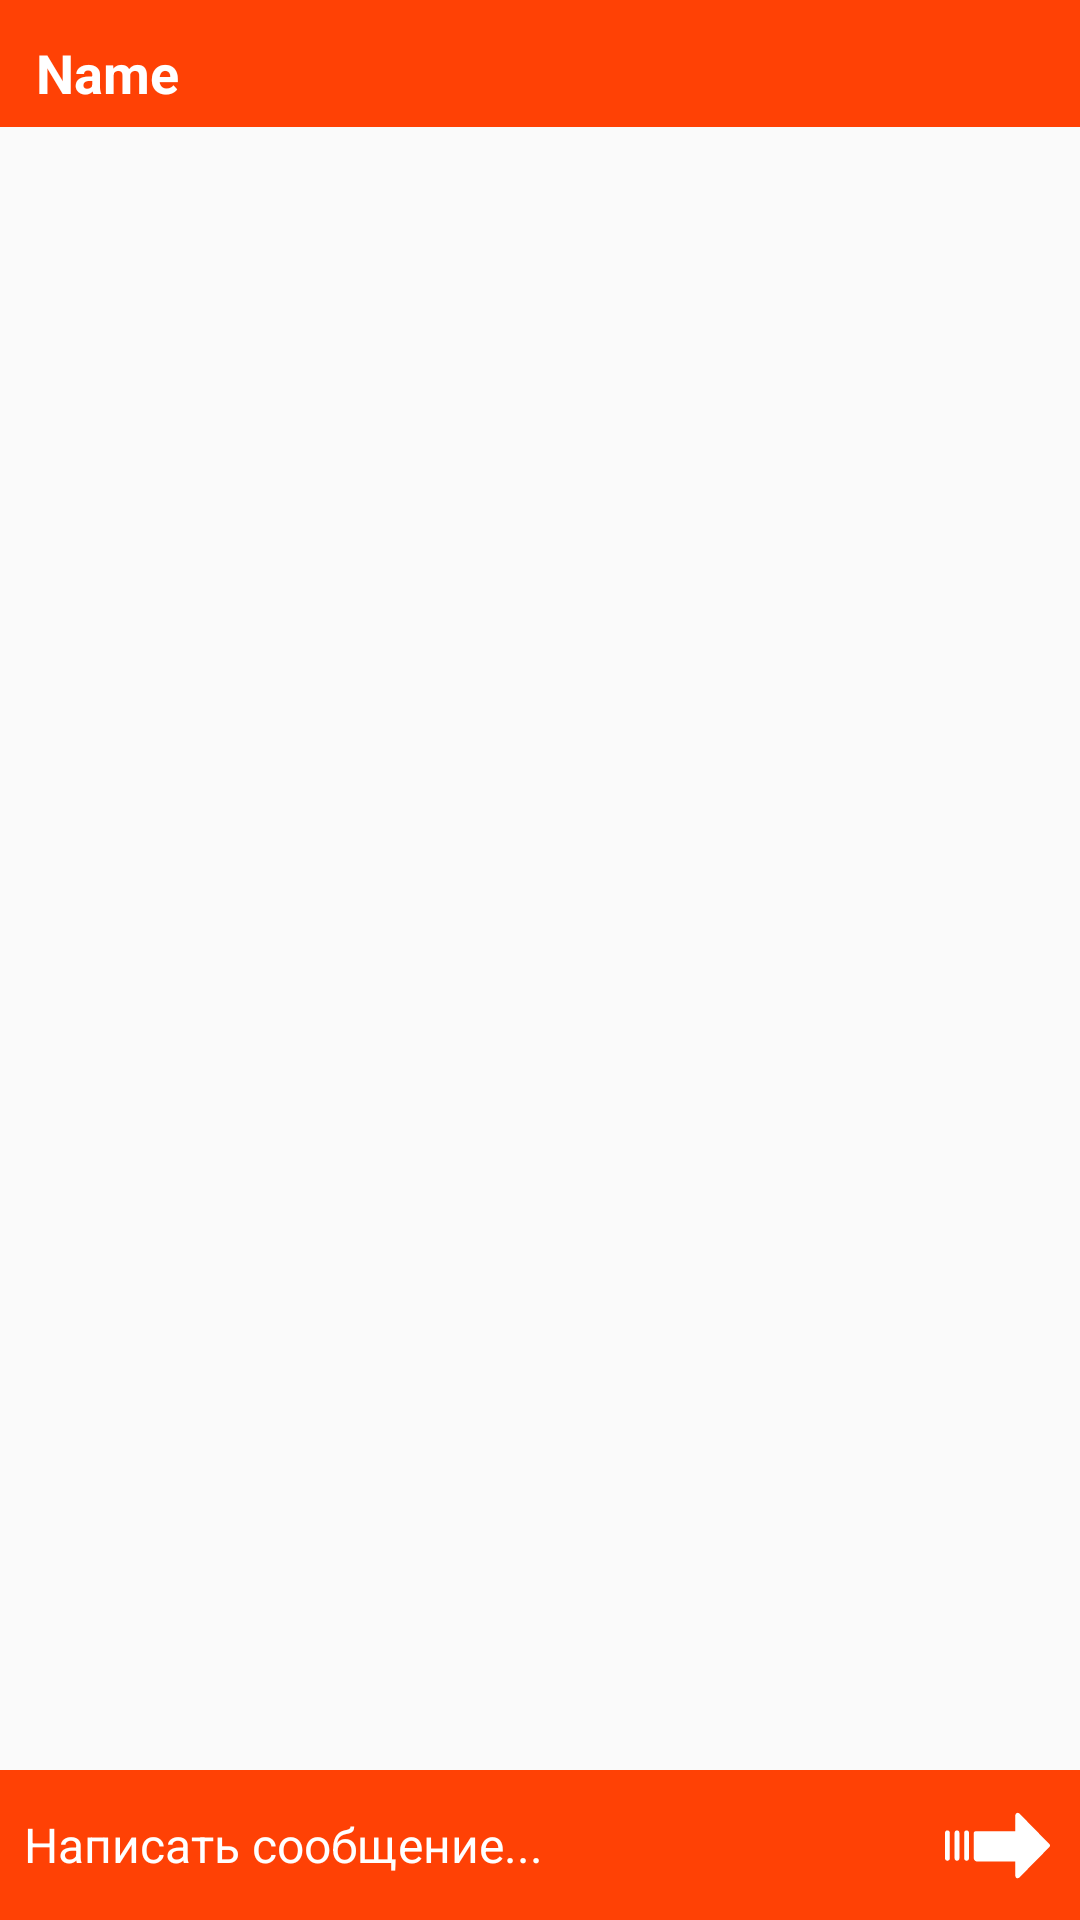

Point at icon controls on the screen. Image size 1080px×1920px, points as point (x, y).
send: point (997, 1845)
